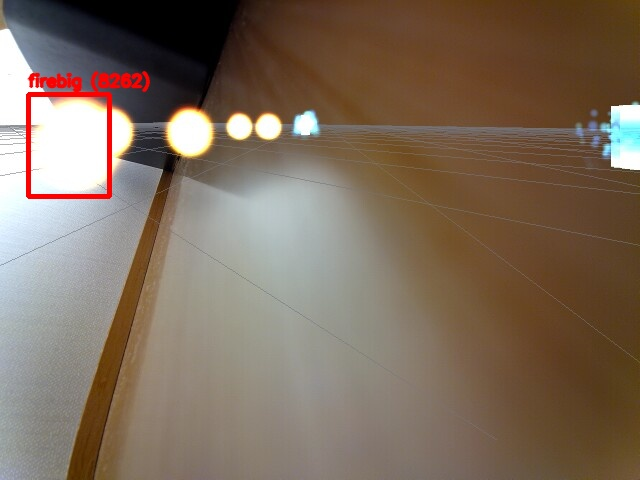firebig: (28, 94, 109, 196)
